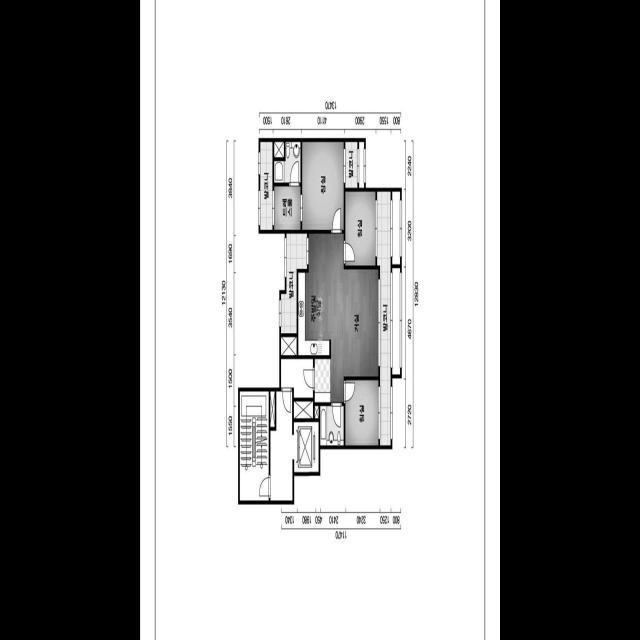background: (140, 0, 500, 640)
space_balconi: (377, 191, 400, 445), (281, 233, 307, 333), (260, 142, 272, 230), (345, 141, 364, 187)
space_bedroom: (302, 141, 344, 229), (345, 191, 375, 265), (346, 380, 378, 445)
space_dressroom: (274, 186, 300, 230)
space_elevator: (294, 422, 319, 472)
space_elevator_hall: (270, 391, 292, 500)
space_front: (315, 358, 331, 402)
space_kitchen: (298, 271, 329, 355)
space_living_room: (309, 233, 378, 402)
space_other: (281, 359, 313, 397), (294, 401, 319, 418), (281, 336, 297, 355), (274, 141, 284, 157)
space_staircase: (240, 391, 269, 500), (270, 391, 275, 426)
space_toilet: (274, 141, 301, 182), (320, 405, 344, 445)
